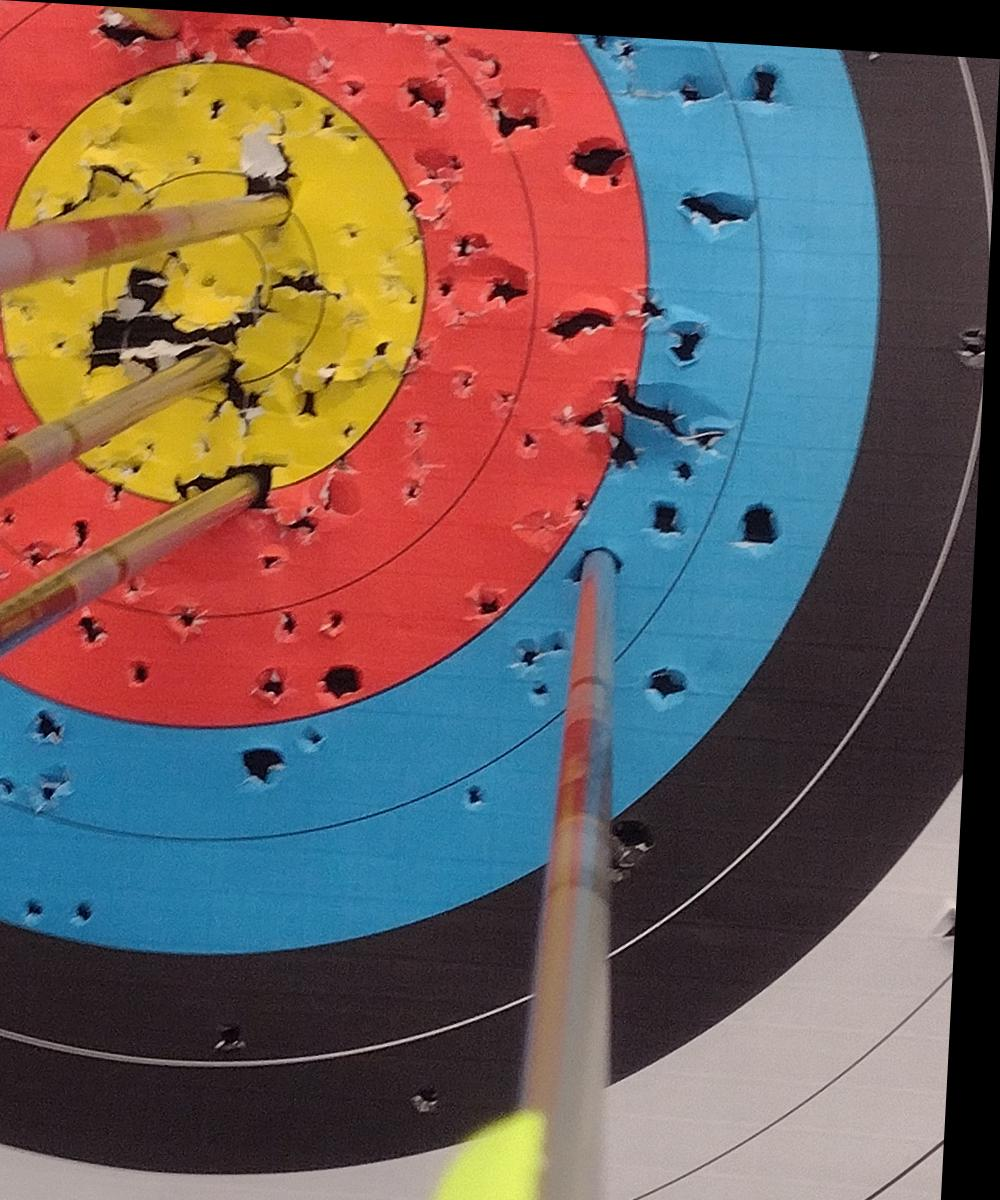10-Ring: (94, 156, 346, 402)
8-Ring: (0, 2, 542, 616)
9-Ring: (0, 53, 440, 511)
Arrow: (450, 543, 625, 1200), (0, 165, 291, 288)
